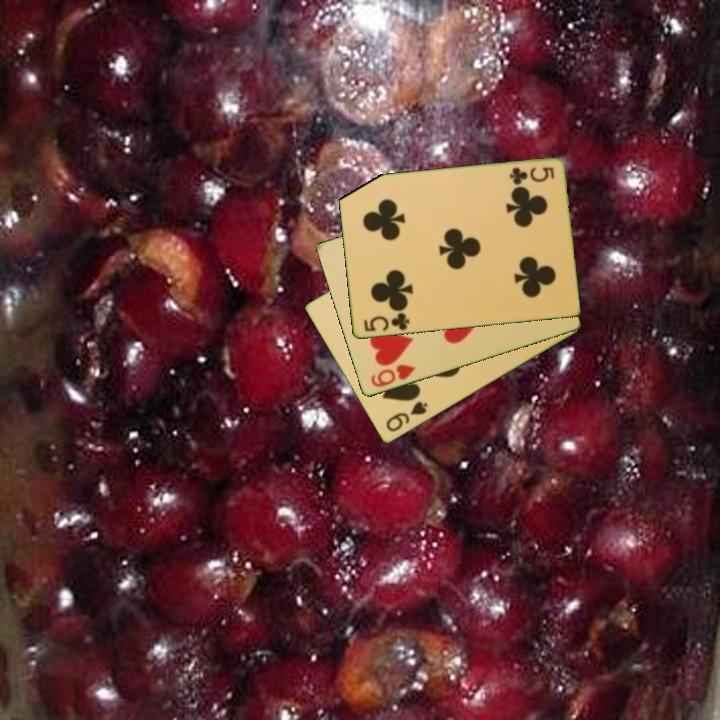5c: (360, 309, 412, 335), (506, 164, 557, 187)
6h: (367, 361, 418, 390)
9s: (382, 398, 431, 435)
